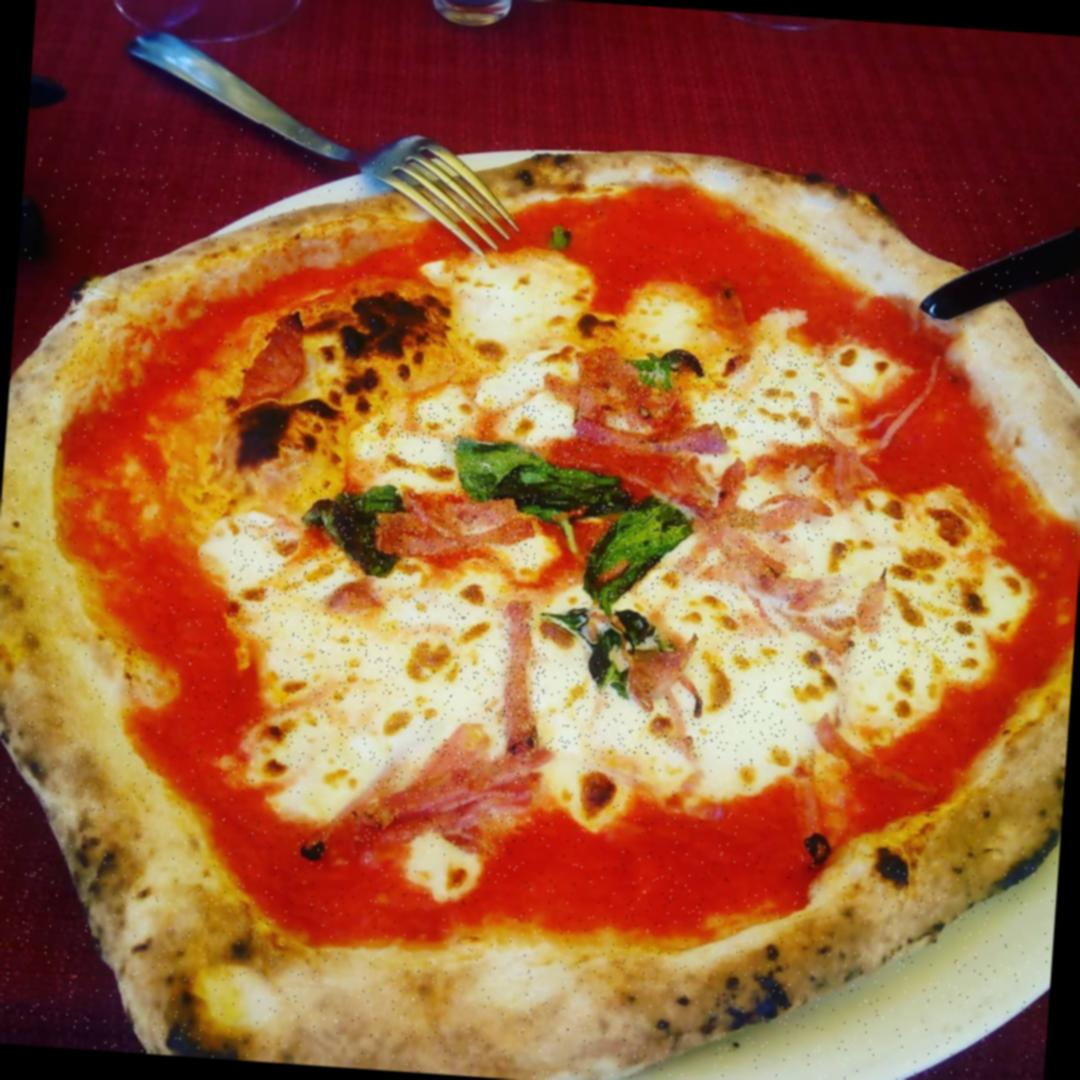Basil: (452, 426, 636, 529), (582, 497, 694, 616), (298, 484, 420, 582), (630, 349, 708, 396)
Cheese: (280, 576, 514, 726), (547, 653, 803, 768), (708, 579, 978, 683), (756, 488, 989, 598), (720, 346, 847, 454), (276, 711, 426, 776), (458, 354, 578, 434), (461, 269, 572, 346), (358, 398, 460, 478), (226, 520, 292, 642)
Ham: (365, 736, 525, 856), (569, 351, 731, 459), (690, 478, 814, 598), (393, 484, 541, 572), (758, 584, 881, 654), (498, 602, 551, 754), (632, 638, 717, 702)
Pizza: (0, 108, 1080, 1080)
